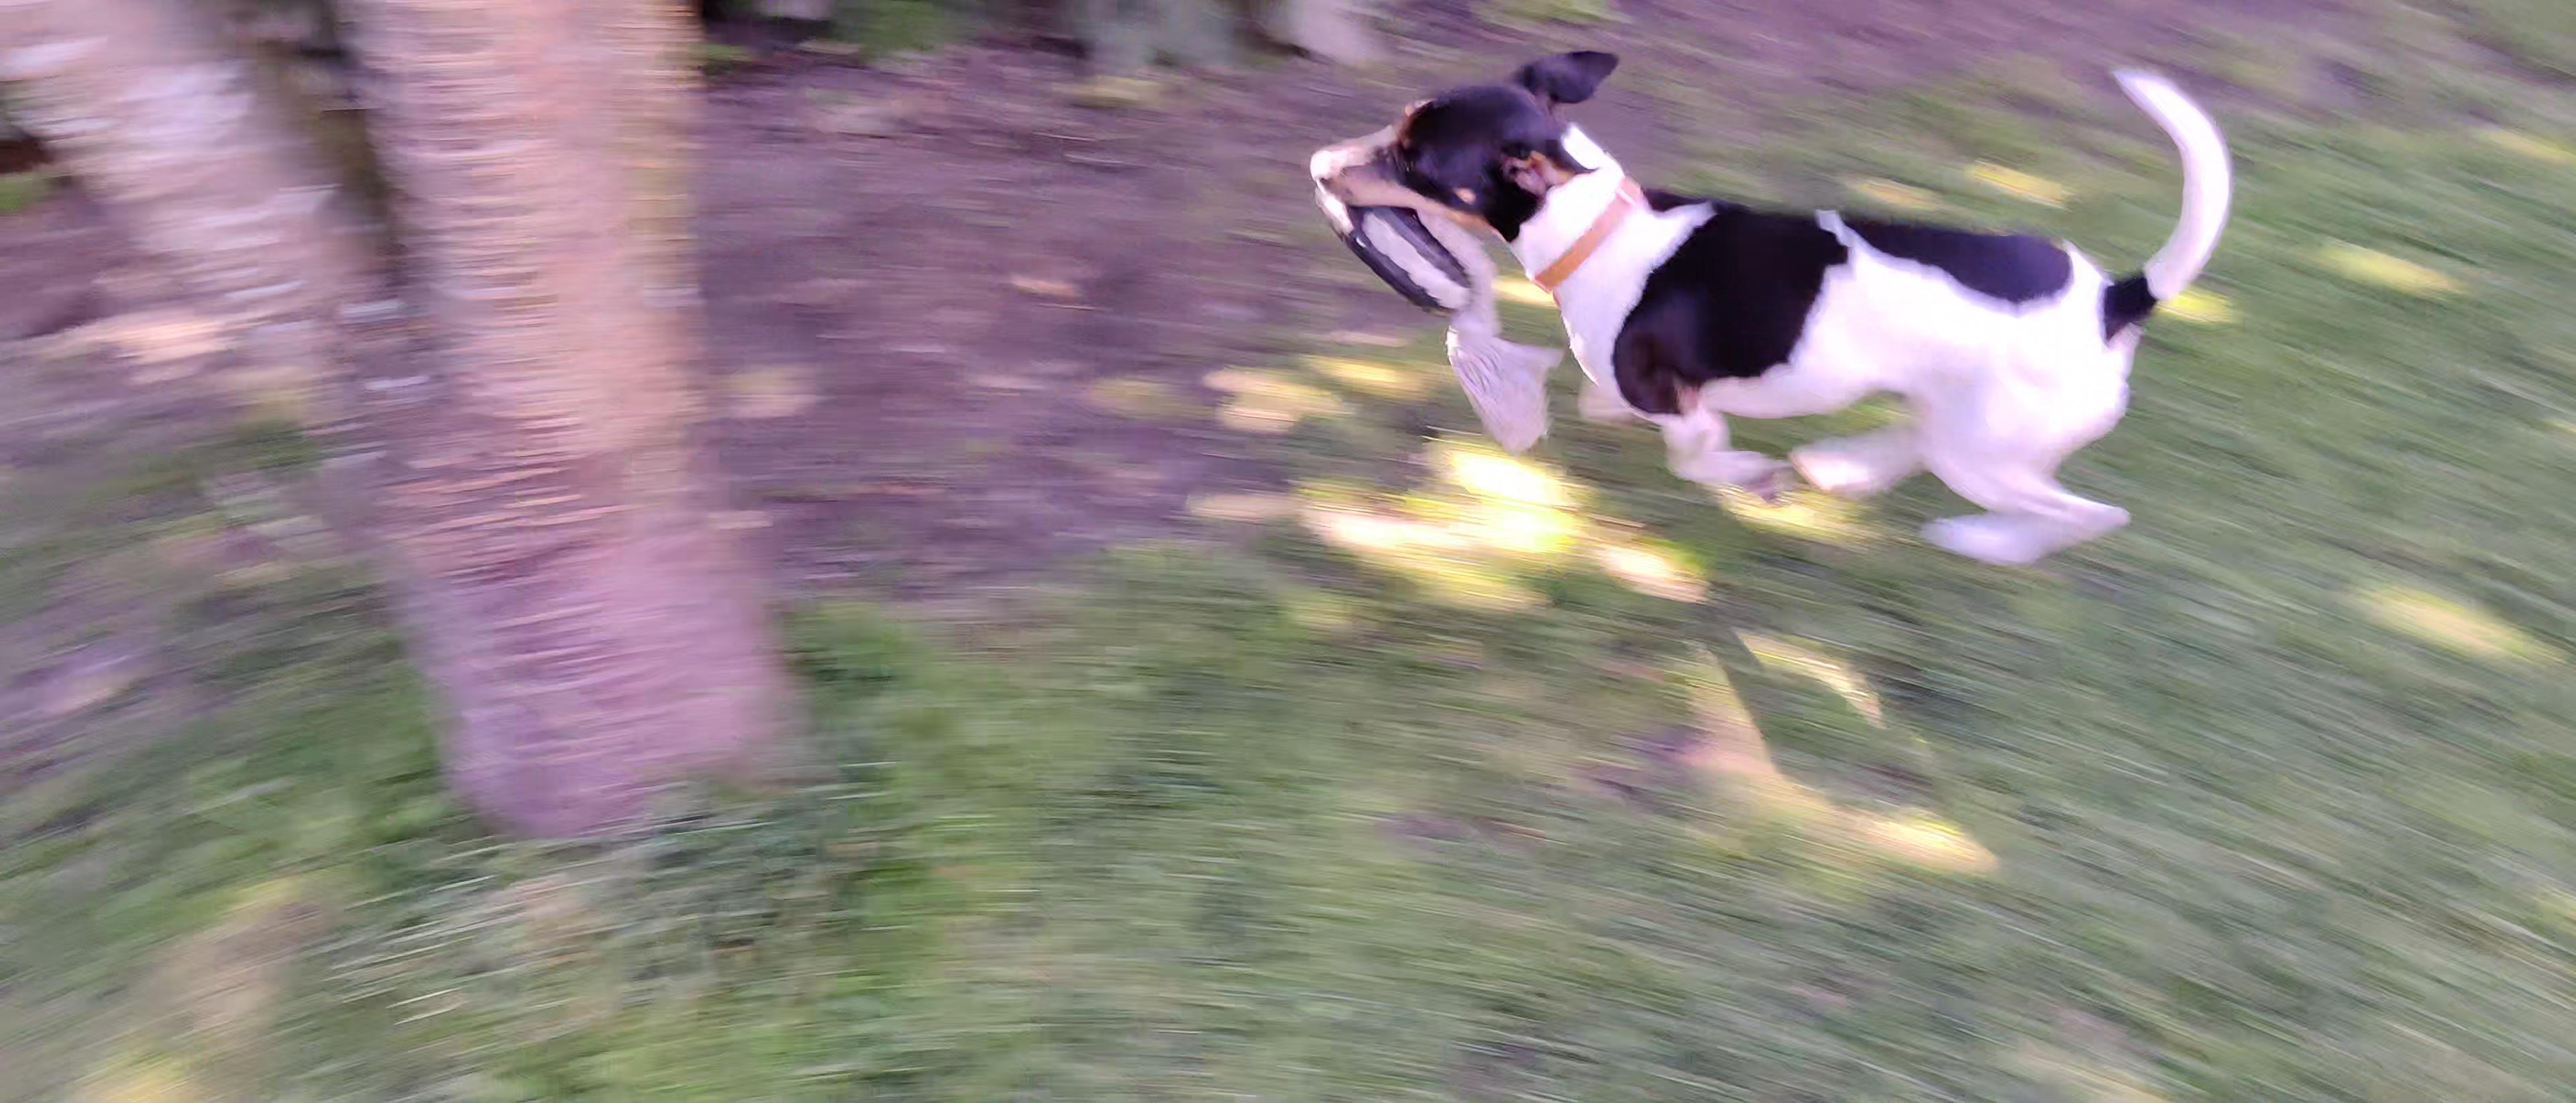Dog: (1290, 30, 2275, 603)
